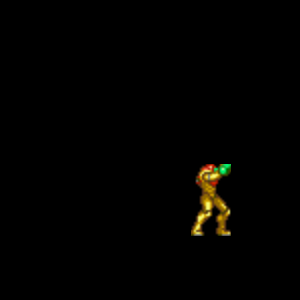Collectible: (191, 164, 231, 236)
